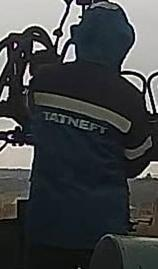vest: (23, 64, 143, 244)
